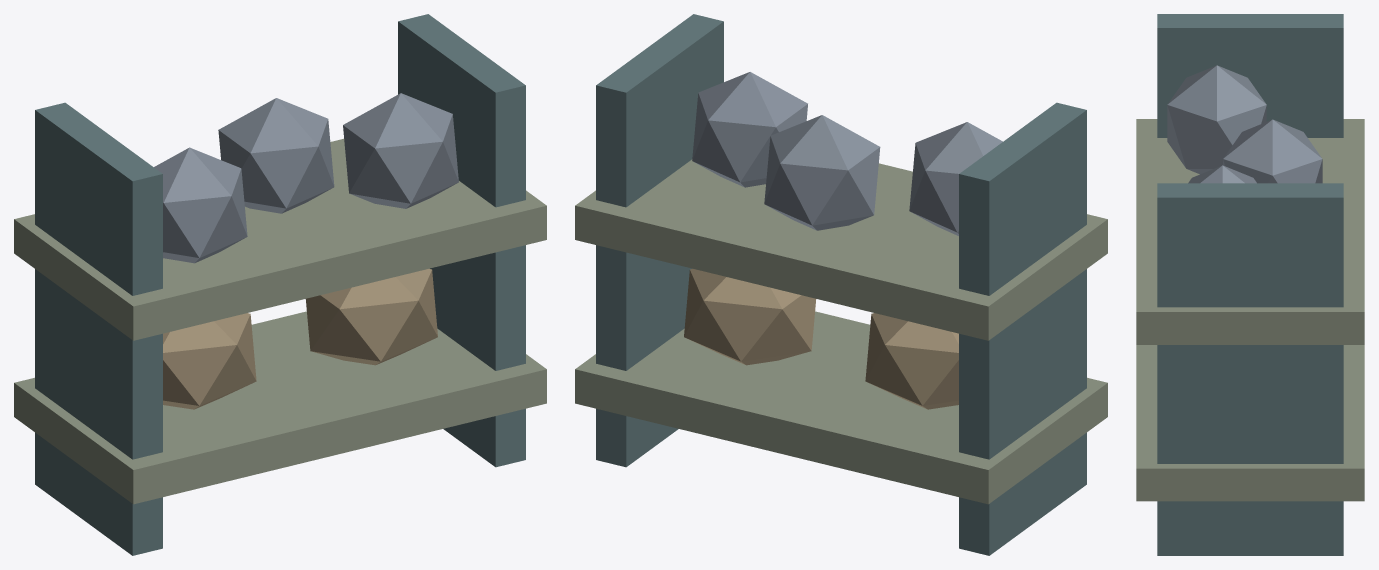
Rendered from map-exclusive-v3__iron_04.glb.
3 views of the same model, side by side, from view 1: azimuth 30°, elevation 25°; view 2: azimuth 150°, elevation 25°; view 3: azimuth 270°, elevation 25° (orthographic). The views are drawn at different scales.
Visible parts, largest first — view 1: iron_04; view 2: iron_04; view 3: iron_04.
Boxes of the visible parts, left/top/right/bottom form: iron_04: left=14, top=14, right=546, bottom=555; iron_04: left=575, top=14, right=1107, bottom=555; iron_04: left=1136, top=14, right=1364, bottom=555.
Bounding box in the file's own units: 1.64 × 1.42 × 0.8199.
